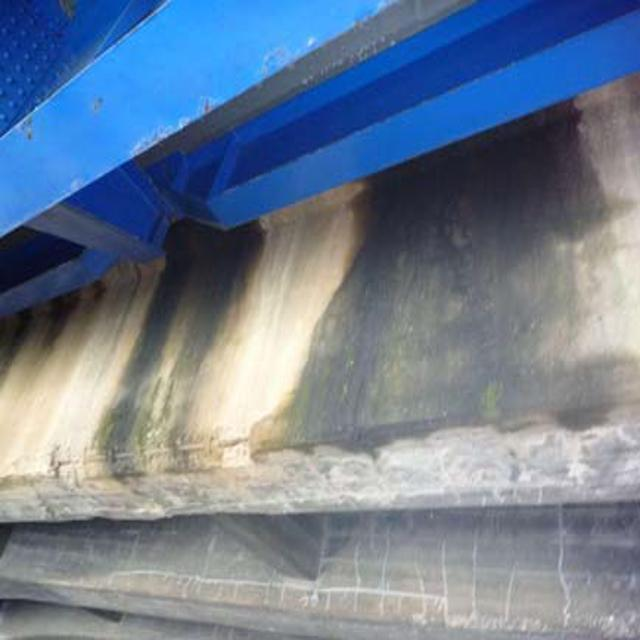leakage: (287, 84, 602, 454), (86, 183, 227, 471)
